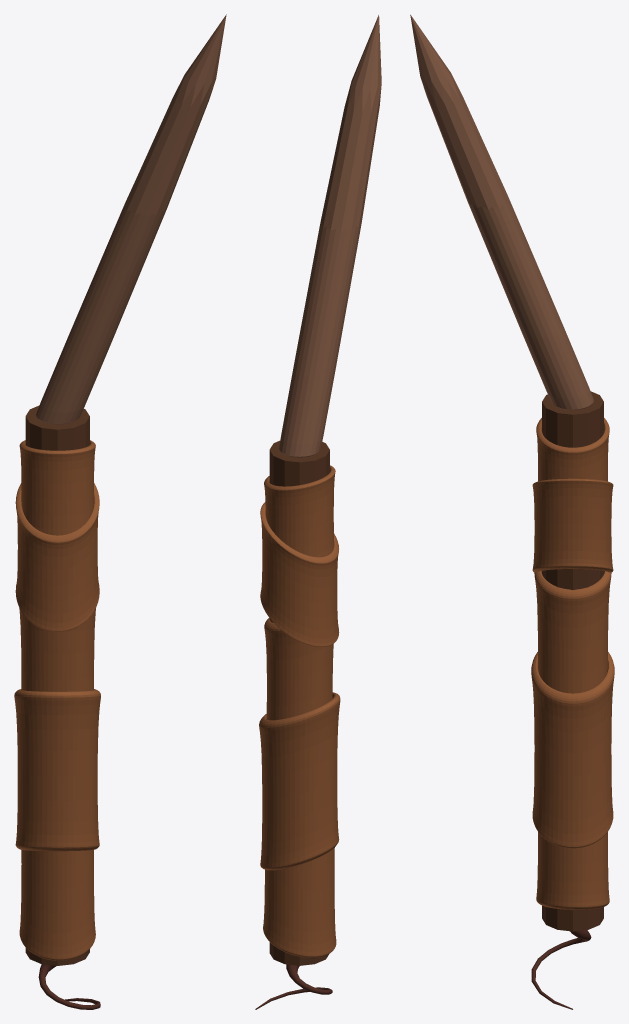
The model's file is Wand 399.glb.
3 views of the same model, side by side, from view 1: azimuth 90°, elevation 25°; view 2: azimuth 150°, elevation 25°; view 3: azimuth 270°, elevation 25° (orthographic). The views are drawn at different scales.
Parts seen in each view (by area): view 1: GeneratedWand; view 2: GeneratedWand; view 3: GeneratedWand.
Boxes of the visible parts, box(x1,y1,x2,y2) form: GeneratedWand: box(14, 14, 226, 1009); GeneratedWand: box(255, 15, 381, 1009); GeneratedWand: box(410, 14, 614, 1009).
Bounding box in the file's own units: 0.0462 × 0.5246 × 0.0999.
